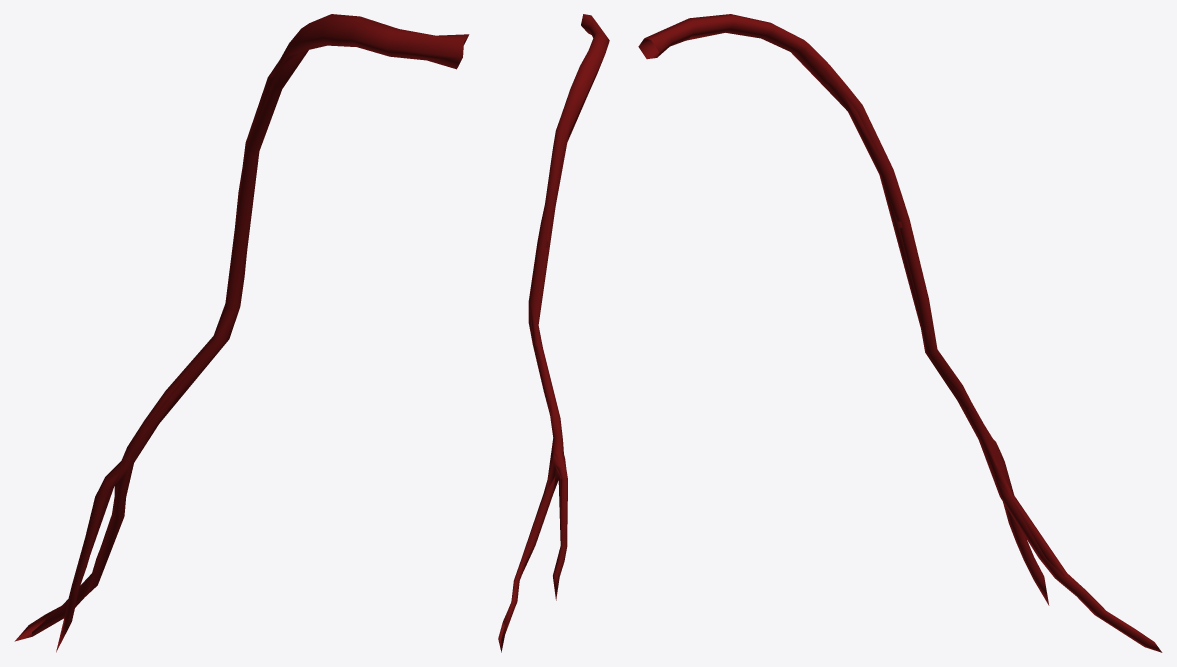
File: L caudalis femoris.fbx
The picture shows the model from 3 angles, left to right: view 1: azimuth 30°, elevation 25°; view 2: azimuth 150°, elevation 25°; view 3: azimuth 270°, elevation 25°; orthographic projection. The views are drawn at different scales.
Parts seen in each view (by area): view 1: L caudalis femoris, L caudalis femoris low; view 2: L caudalis femoris, L caudalis femoris low; view 3: L caudalis femoris, L caudalis femoris low.
Part boxes in pixels (bbox=[...]): L caudalis femoris: bbox=[14, 14, 469, 652]; L caudalis femoris low: bbox=[15, 17, 463, 648]; L caudalis femoris: bbox=[498, 14, 609, 652]; L caudalis femoris low: bbox=[501, 16, 608, 651]; L caudalis femoris: bbox=[638, 14, 1162, 652]; L caudalis femoris low: bbox=[645, 16, 1104, 609].
Size of the model in its own units: 2.5 by 10.1 by 7.04.
